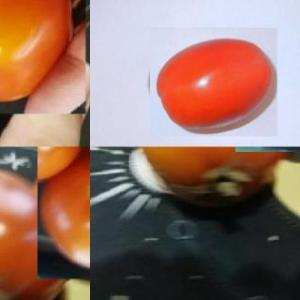tomato: (150, 28, 278, 136), (132, 147, 278, 215), (0, 1, 86, 113), (0, 164, 68, 300), (38, 147, 90, 279)
